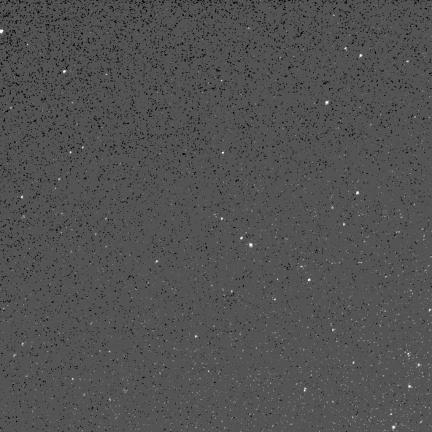blob: (63, 70, 67, 74), (249, 243, 253, 247), (360, 54, 363, 58), (0, 30, 3, 34), (221, 217, 224, 221), (343, 223, 346, 227), (21, 196, 24, 200), (326, 101, 329, 105), (407, 60, 410, 63), (222, 152, 225, 155), (308, 279, 311, 282), (357, 192, 360, 195), (241, 237, 243, 240)
